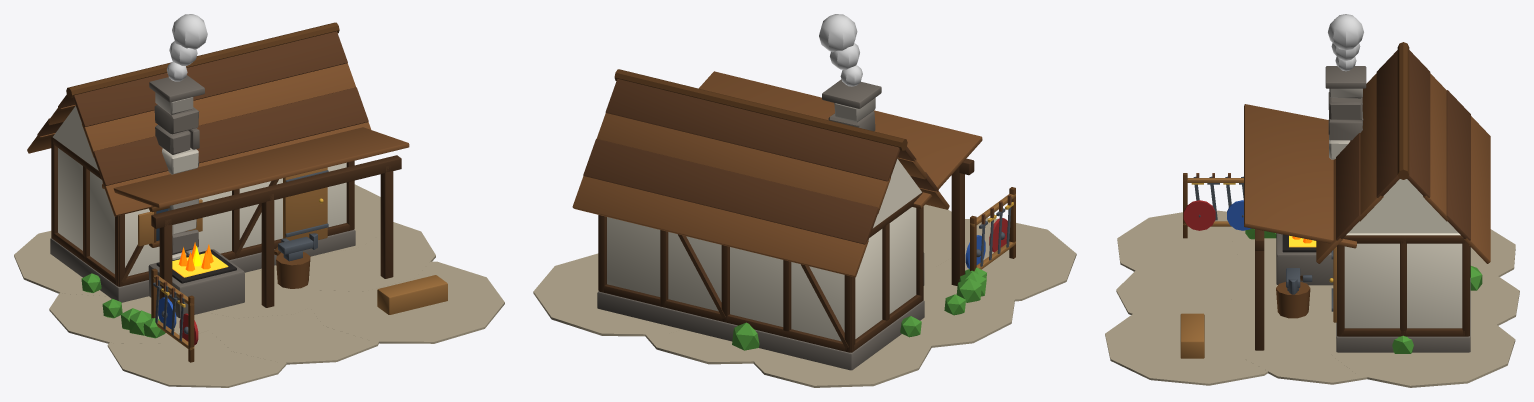
Rendered from kuznia_poz06.glb.
3 renders of one model, left to right at view 1: azimuth 30°, elevation 25°; view 2: azimuth 150°, elevation 25°; view 3: azimuth 270°, elevation 25°, orthographic. The views are drawn at different scales.
Visible parts, largest first — view 1: kuznia_poz06; view 2: kuznia_poz06; view 3: kuznia_poz06.
Boxes of the visible parts, left/top/right/bottom form: kuznia_poz06: left=14, top=14, right=504, bottom=387; kuznia_poz06: left=533, top=14, right=1076, bottom=387; kuznia_poz06: left=1105, top=14, right=1519, bottom=387.
Size of the model in its own units: 8.78 by 6.16 by 8.65.
